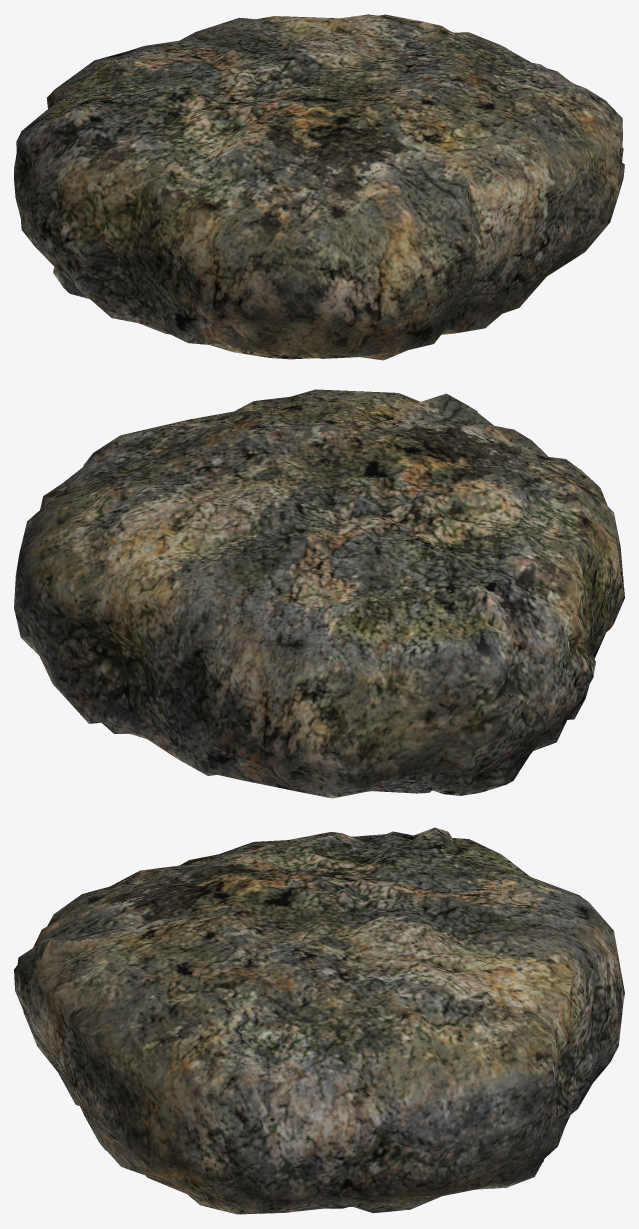
File: Rock03.fbx
The picture shows the model from 3 angles, top to bottom: view 1: azimuth 30°, elevation 25°; view 2: azimuth 150°, elevation 25°; view 3: azimuth 270°, elevation 25°; orthographic projection. The views are drawn at different scales.
Parts seen in each view (by area): view 1: CoralRock3; view 2: CoralRock3; view 3: CoralRock3.
Boxes of the visible parts, bbox=[...] form: CoralRock3: bbox=[14, 14, 624, 360]; CoralRock3: bbox=[14, 389, 624, 798]; CoralRock3: bbox=[14, 827, 624, 1214].
Bounding box in the file's own units: 197 × 83.43 × 186.
